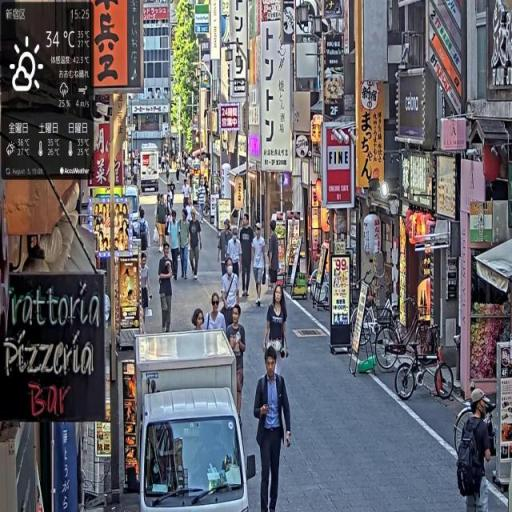person: (254, 345, 293, 511), (455, 389, 496, 512), (227, 303, 248, 418), (264, 284, 291, 369), (158, 243, 176, 337), (240, 215, 257, 301), (222, 257, 243, 326), (252, 223, 269, 308), (203, 292, 229, 336), (189, 210, 204, 284), (140, 251, 153, 333), (169, 208, 183, 283), (268, 222, 281, 295), (180, 211, 192, 283)
